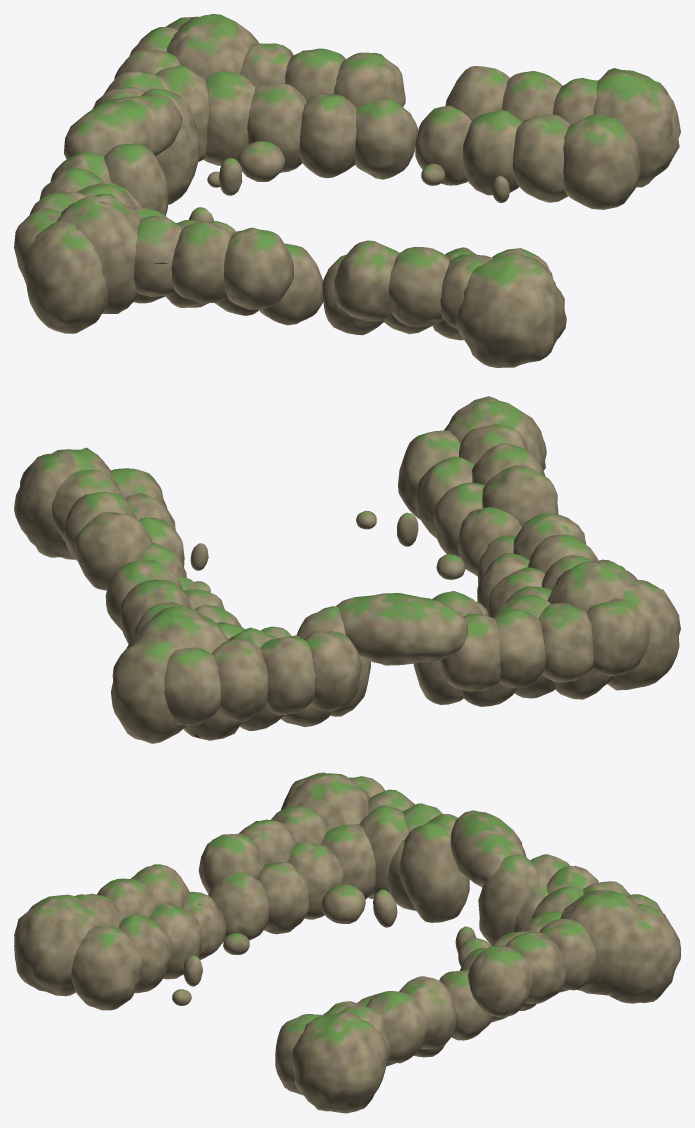
Rendered from la_cueva_escenario.glb.
3 renders of one model, top to bottom at view 1: azimuth 30°, elevation 25°; view 2: azimuth 150°, elevation 25°; view 3: azimuth 270°, elevation 25°, orthographic. The views are drawn at different scales.
Parts seen in each view (by area): view 1: cueva_paredes; view 2: cueva_paredes; view 3: cueva_paredes.
Boxes of the visible parts, <box> form: cueva_paredes: <box>14,14,680,367</box>; cueva_paredes: <box>14,396,680,743</box>; cueva_paredes: <box>14,772,680,1113</box>.
Size of the model in its own units: 25.04 by 4.57 by 25.04.
Materials: 1 (1 with a texture image).
